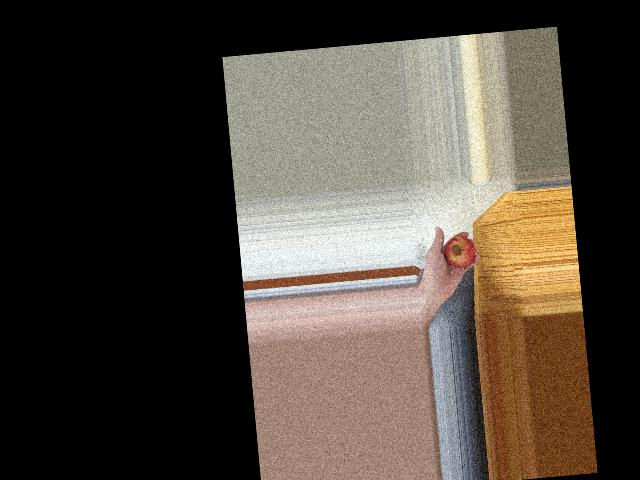apple: (439, 232, 476, 273)
